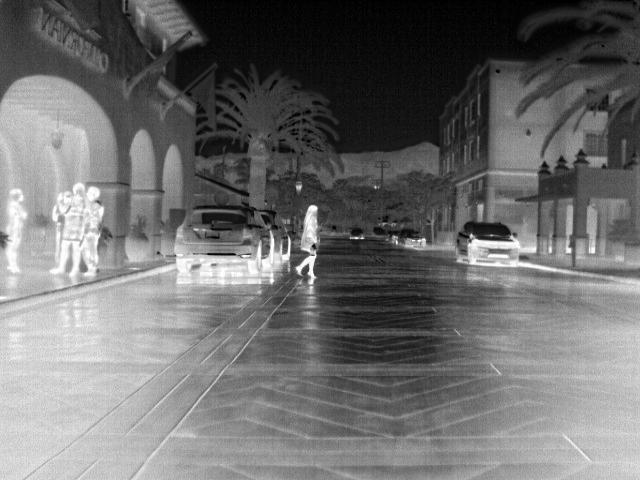car: (173, 206, 263, 285), (455, 221, 523, 267), (260, 208, 290, 273), (260, 212, 282, 281), (399, 230, 429, 248), (347, 225, 365, 241)
person: (50, 185, 88, 279), (2, 186, 28, 276), (83, 188, 107, 280), (293, 205, 320, 281), (55, 189, 77, 255)
